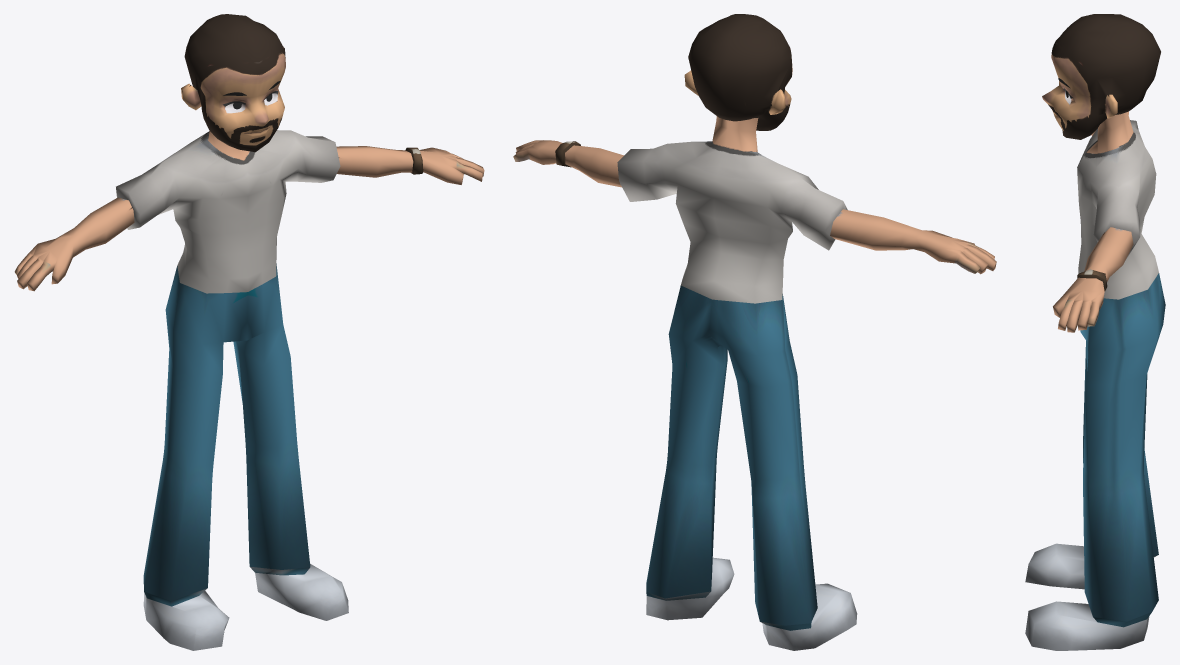
File: char_2.fbx
3 renders of one model, left to right at view 1: azimuth 30°, elevation 25°; view 2: azimuth 150°, elevation 25°; view 3: azimuth 270°, elevation 25°, orthographic. The views are drawn at different scales.
Parts seen in each view (by area): view 1: Cylinder.003; view 2: Cylinder.003; view 3: Cylinder.003.
Boxes of the visible parts, x1,y1,x2,y2 form: Cylinder.003: (14, 14, 484, 650); Cylinder.003: (513, 14, 996, 650); Cylinder.003: (1025, 14, 1165, 650).
Size of the model in its own units: 1329 by 1605 by 344.
